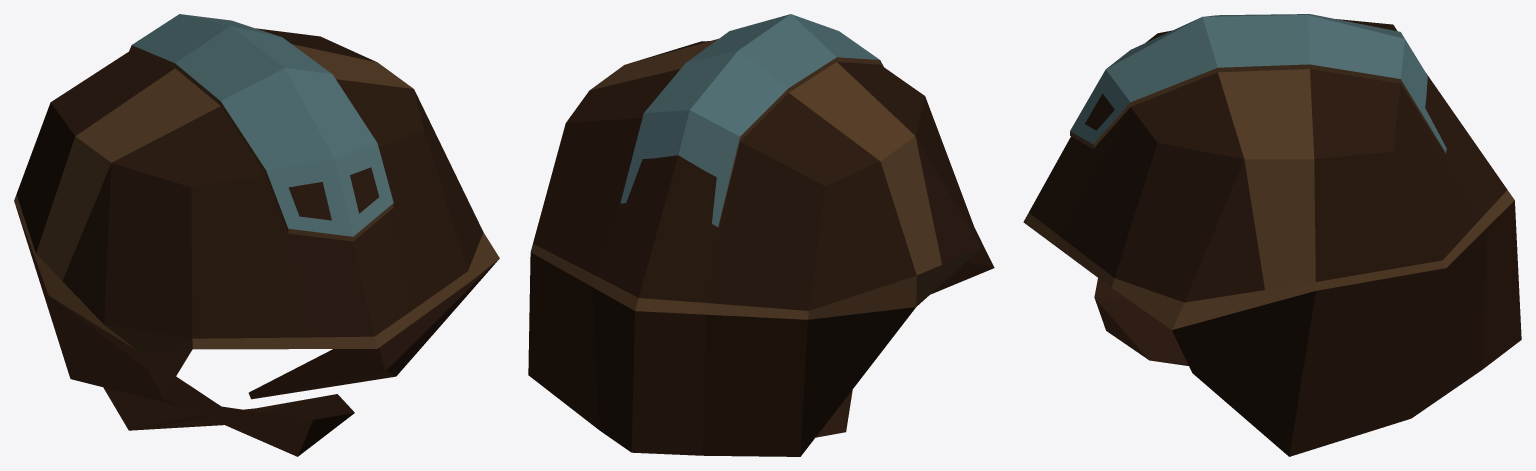
The model's file is leather_helm_obj.fbx.
The picture shows the model from 3 angles, left to right: view 1: azimuth 30°, elevation 25°; view 2: azimuth 150°, elevation 25°; view 3: azimuth 270°, elevation 25°; orthographic projection. The views are drawn at different scales.
Parts seen in each view (by area): view 1: Helm; view 2: Helm; view 3: Helm.
Part boxes in pixels (x1,y1,x2,y2): Helm: (14, 14, 499, 456); Helm: (528, 14, 994, 456); Helm: (1023, 14, 1521, 456).
Bounding box in the file's own units: 197 × 185 × 226.
